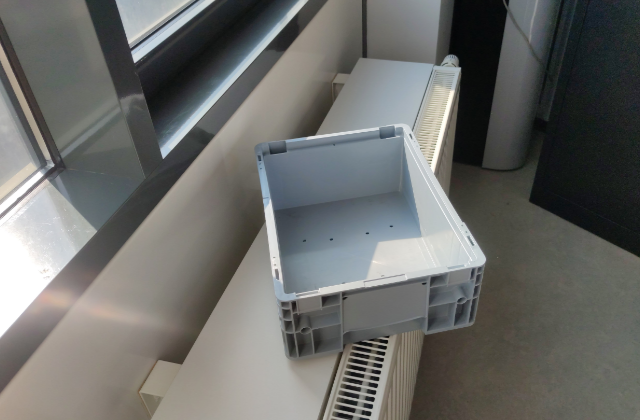Box: (252, 122, 489, 363)
